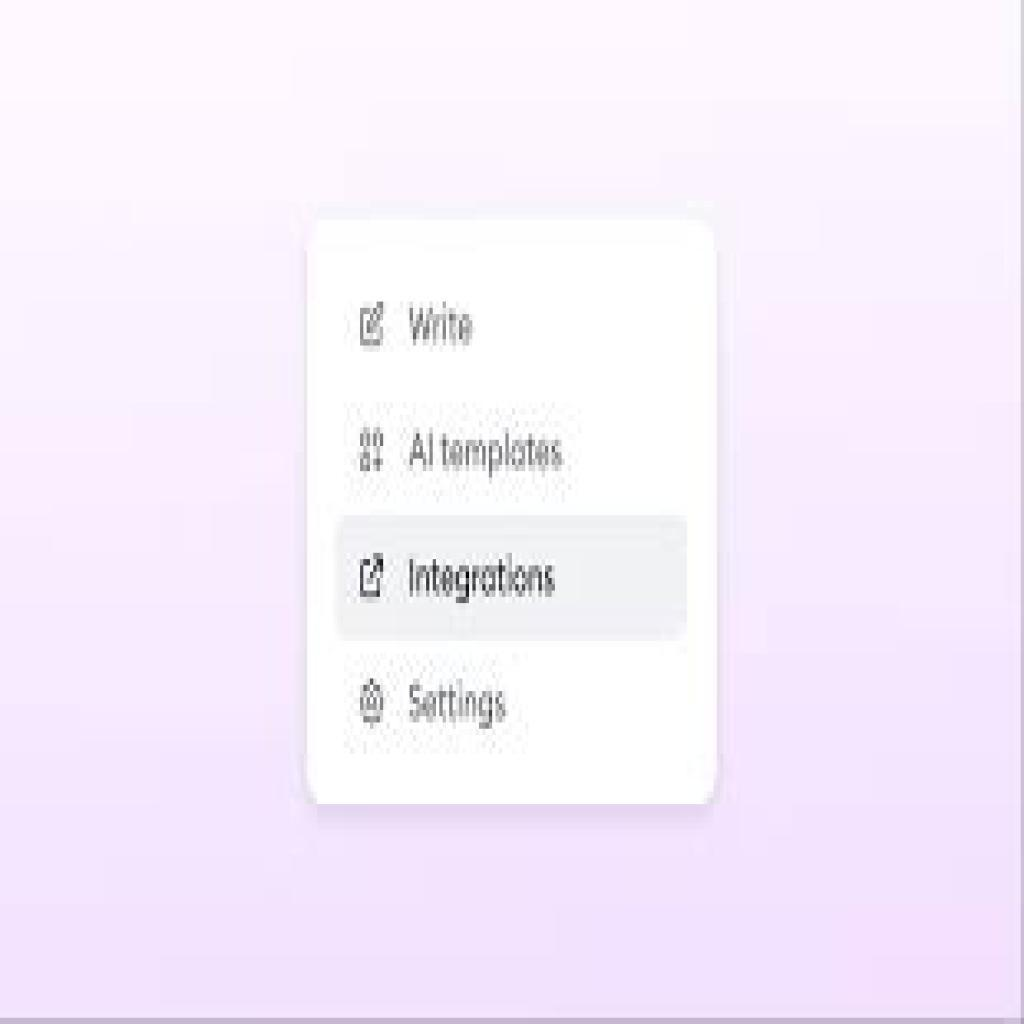button: (338, 517, 689, 644)
icon: (358, 288, 391, 357), (357, 552, 392, 605), (358, 422, 391, 478), (359, 675, 388, 731)
